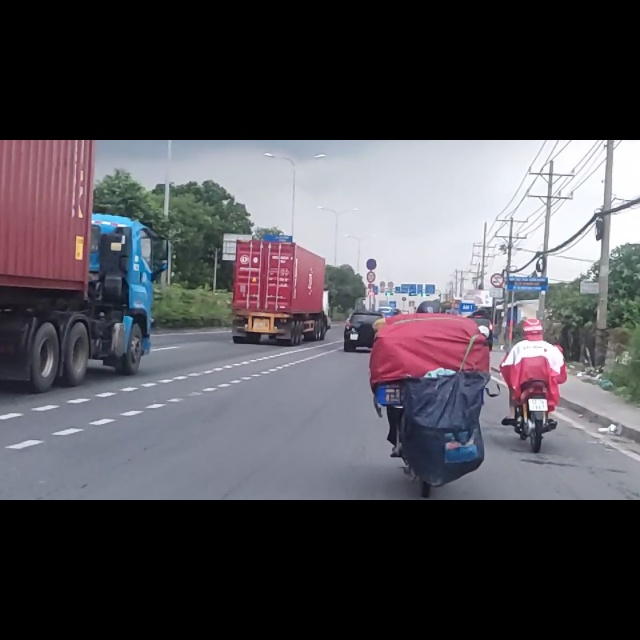bien_cam: (490, 237, 504, 263), (365, 210, 377, 231)
